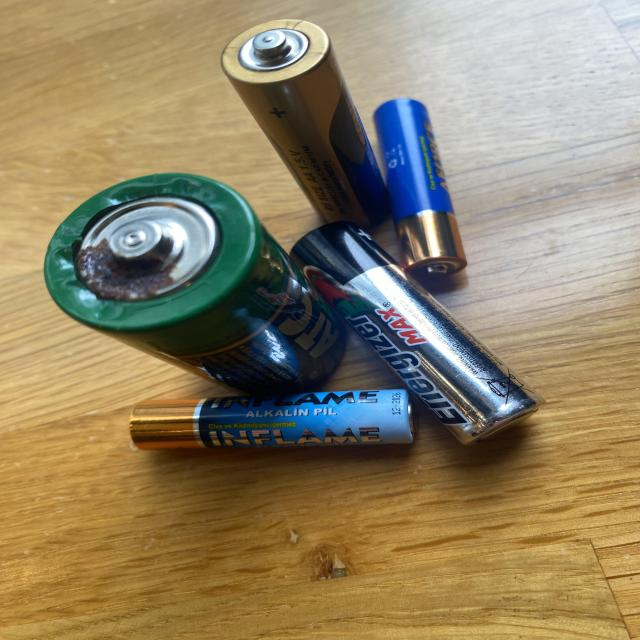AA: (288, 220, 546, 446), (220, 18, 392, 231)
AAA: (128, 388, 415, 451), (372, 96, 468, 278)
